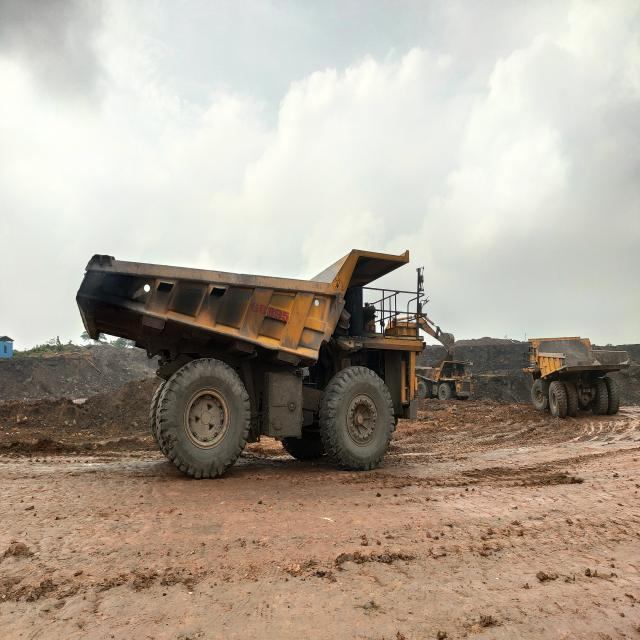dump_truck: (75, 250, 430, 481), (526, 338, 619, 416), (415, 347, 479, 401)
excavator: (419, 314, 455, 357)
